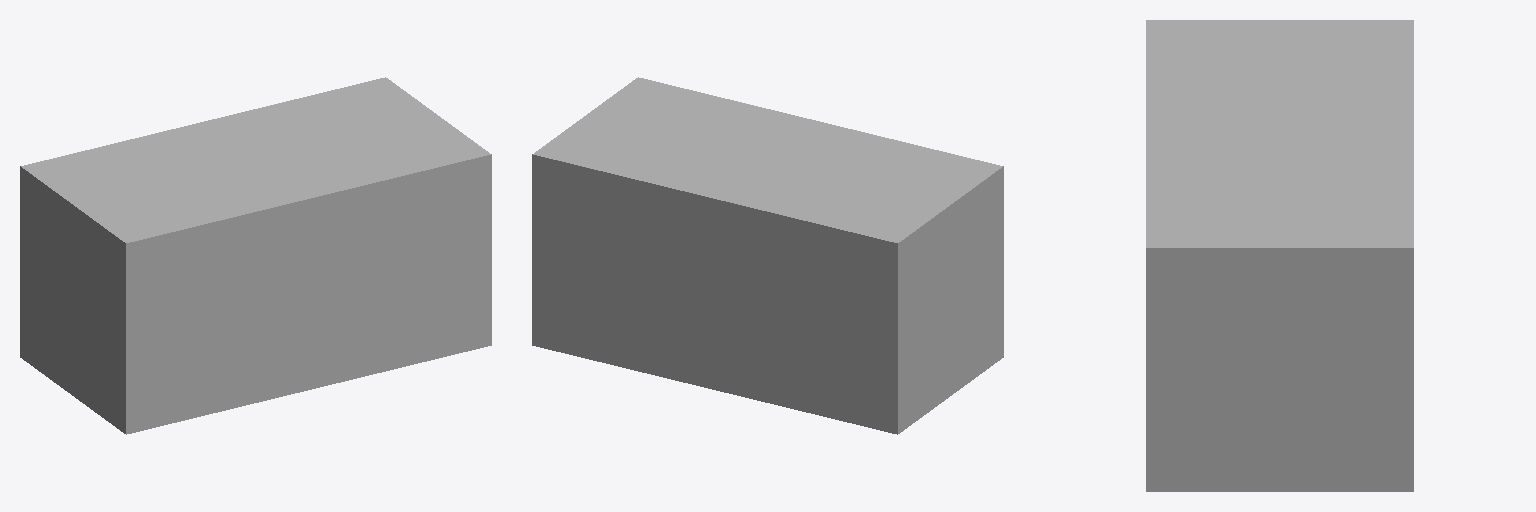
URDF robot description (robot):
<?xml version="1.0"?>
<robot  name="robot">
  <link name="base_link">
    <visual>
      <geometry>
        <box  size="0.6 0.3 0.3"/>
      </geometry>
      <material name="silver">
        <color  rgba="0.75  0.75  0.75  1"/>
      </material>
    </visual>
  </link>
</robot>

--- What the picture shows (computed from the rendered views, not written in the file) ---
3 views of the same robot in one strip: view 1: azimuth 30°, elevation 25°; view 2: azimuth 150°, elevation 25°; view 3: azimuth 270°, elevation 25° (orthographic).
Robot: robot — 1 links, 0 joints (none); root link base_link; default pose: all joints at 0.
Visible links, largest first — view 1: base_link; view 2: base_link; view 3: base_link.
Boxes of the visible links, x1,y1,x2,y2 form: base_link: [20, 77, 491, 434]; base_link: [532, 77, 1003, 434]; base_link: [1146, 20, 1413, 491].
Size in the robot's own frame: 0.6 by 0.3 by 0.3 metres.
Geometry: primitives only (box / cylinder / sphere), no mesh files.